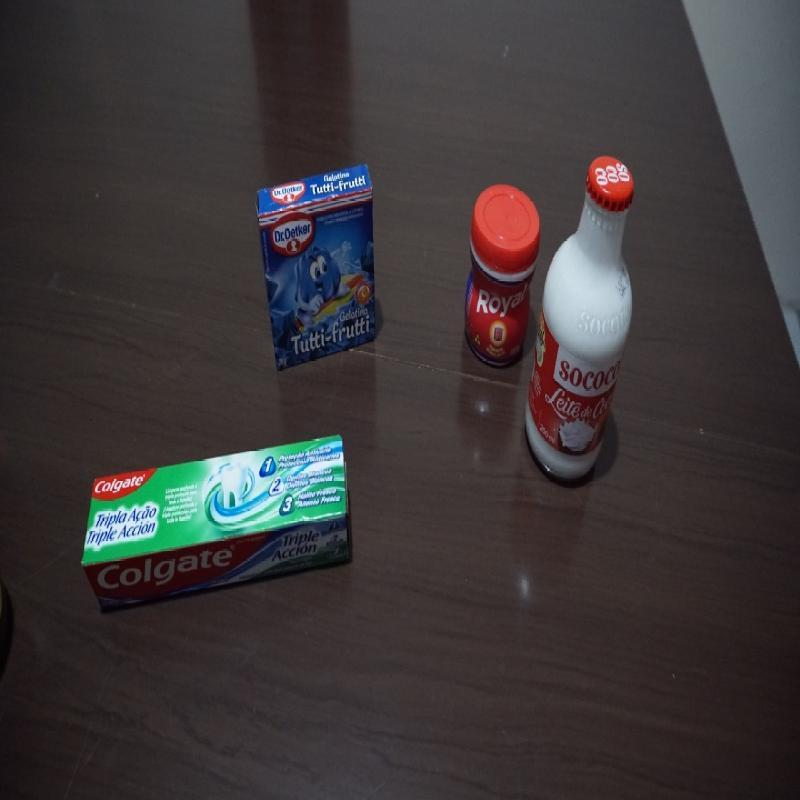Coconut Milk: (531, 161, 628, 488)
Gelatine: (254, 164, 380, 366)
Toothpaste: (85, 433, 354, 598)
Yeast: (462, 177, 534, 364)
